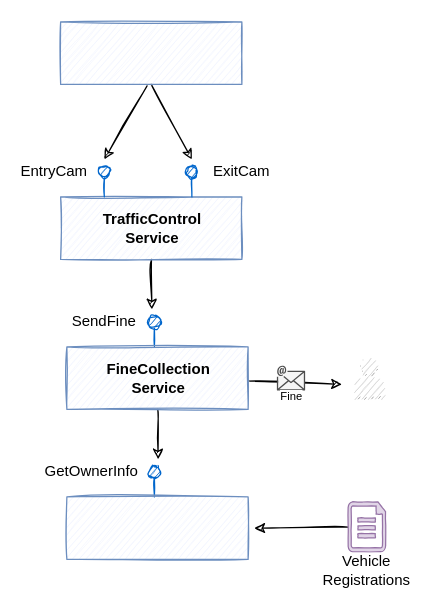
Some shapes in this 433 by 610 pixel diagram are drawn without their labels. Here are the shapes that lost their labels. From the top down, the centre of each, then its label:
At pixel 150 52: "Camera Simulation Service".
At pixel 157 527: "VehicleRegistration Service".
